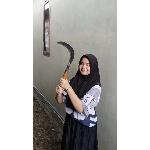Celurit: (54, 39, 77, 89)
